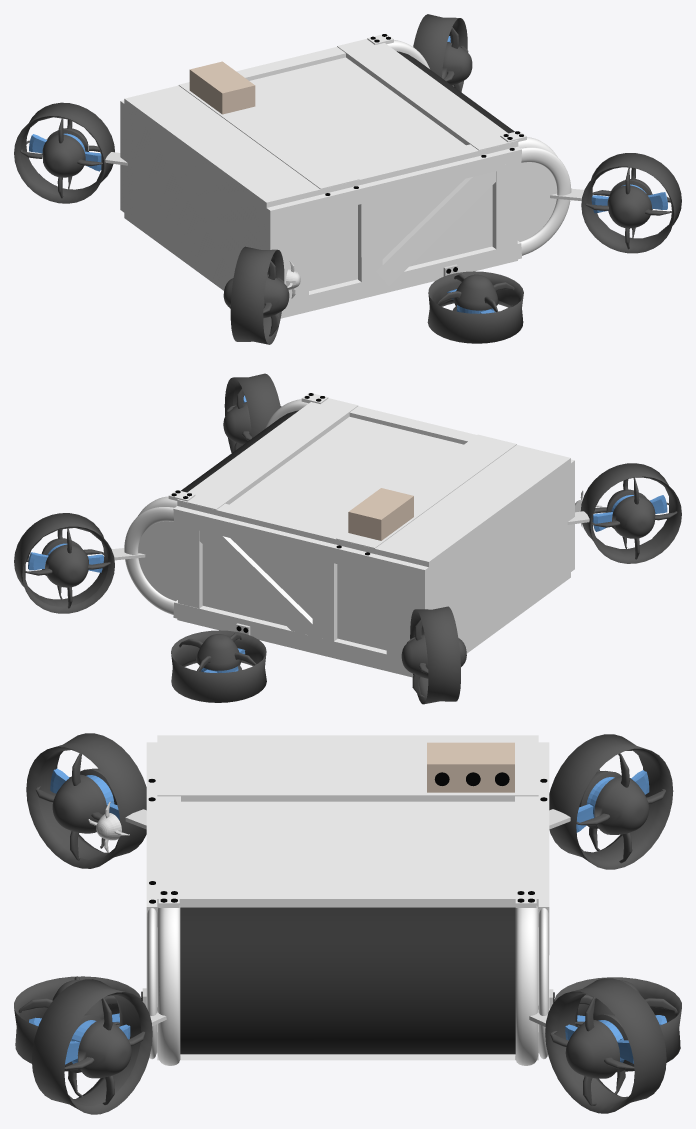
File: bracbot12siderotatefixes.fbx
The picture shows the model from 3 angles, top to bottom: view 1: azimuth 30°, elevation 25°; view 2: azimuth 150°, elevation 25°; view 3: azimuth 270°, elevation 25°; orthographic projection. The views are drawn at different scales.
Parts seen in each view (by area): view 1: Plane.011, Circle.012, Cube.002, Cube.003, Circle.028, Circle.004, Cube.005; view 2: Plane.011, Circle.012, Cube.002, Cube.004, Circle.028, Circle.004, Cube.005; view 3: Plane.011, Cube.005, Circle.012, Cube.002, Circle.028, Circle.004, Cylinder.002, Plane.003.
Part boxes in pixels (<box>): Plane.011: <box>120,33,571,318</box>; Circle.012: <box>14,14,681,344</box>; Cube.002: <box>249,57,465,173</box>; Cube.003: <box>309,162,555,290</box>; Circle.028: <box>189,61,255,114</box>; Circle.004: <box>29,36,667,313</box>; Cube.005: <box>397,51,514,133</box>; Plane.011: <box>124,392,574,677</box>; Circle.012: <box>14,373,681,704</box>; Cube.002: <box>230,416,463,532</box>; Cube.004: <box>138,521,386,650</box>; Circle.028: <box>348,488,413,540</box>; Circle.004: <box>28,395,667,673</box>; Cube.005: <box>181,410,298,492</box>; Plane.011: <box>146,735,549,1065</box>; Cube.005: <box>180,908,515,1054</box>; Circle.012: <box>14,733,681,1114</box>; Cube.002: <box>181,801,514,873</box>; Circle.028: <box>427,742,514,792</box>; Circle.004: <box>29,768,666,1064</box>; Cylinder.002: <box>88,802,129,852</box>; Plane.003: <box>125,809,570,829</box>.
Bounding box in the file's own units: 369 × 138 × 350.
